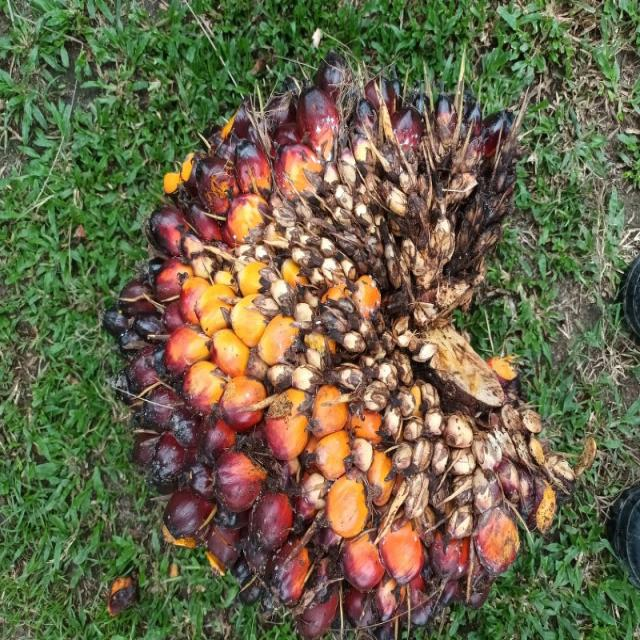fraksi 1: (0, 74, 433, 640)
